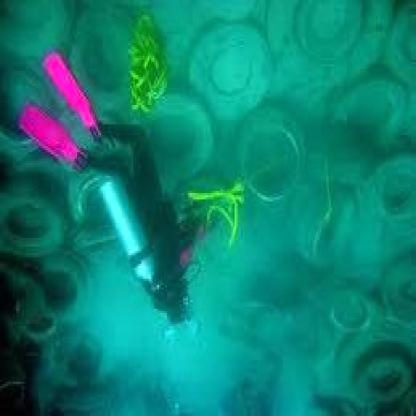net: (188, 178, 247, 253), (127, 8, 167, 110)
tire: (181, 20, 280, 110), (262, 6, 385, 75), (220, 103, 305, 201), (68, 6, 134, 122), (132, 100, 220, 186), (321, 80, 411, 152), (45, 163, 117, 247), (2, 176, 64, 266), (2, 63, 54, 170), (334, 336, 411, 408), (27, 251, 101, 311), (325, 287, 379, 341), (364, 156, 416, 210), (382, 266, 416, 326)
